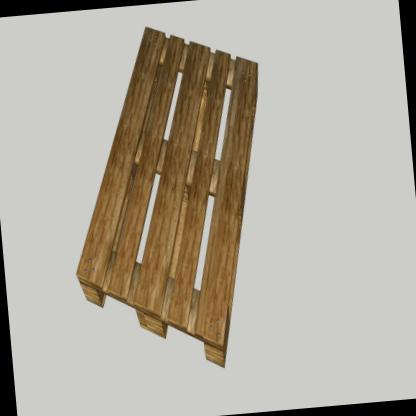BoxFace: (76, 22, 263, 374)
